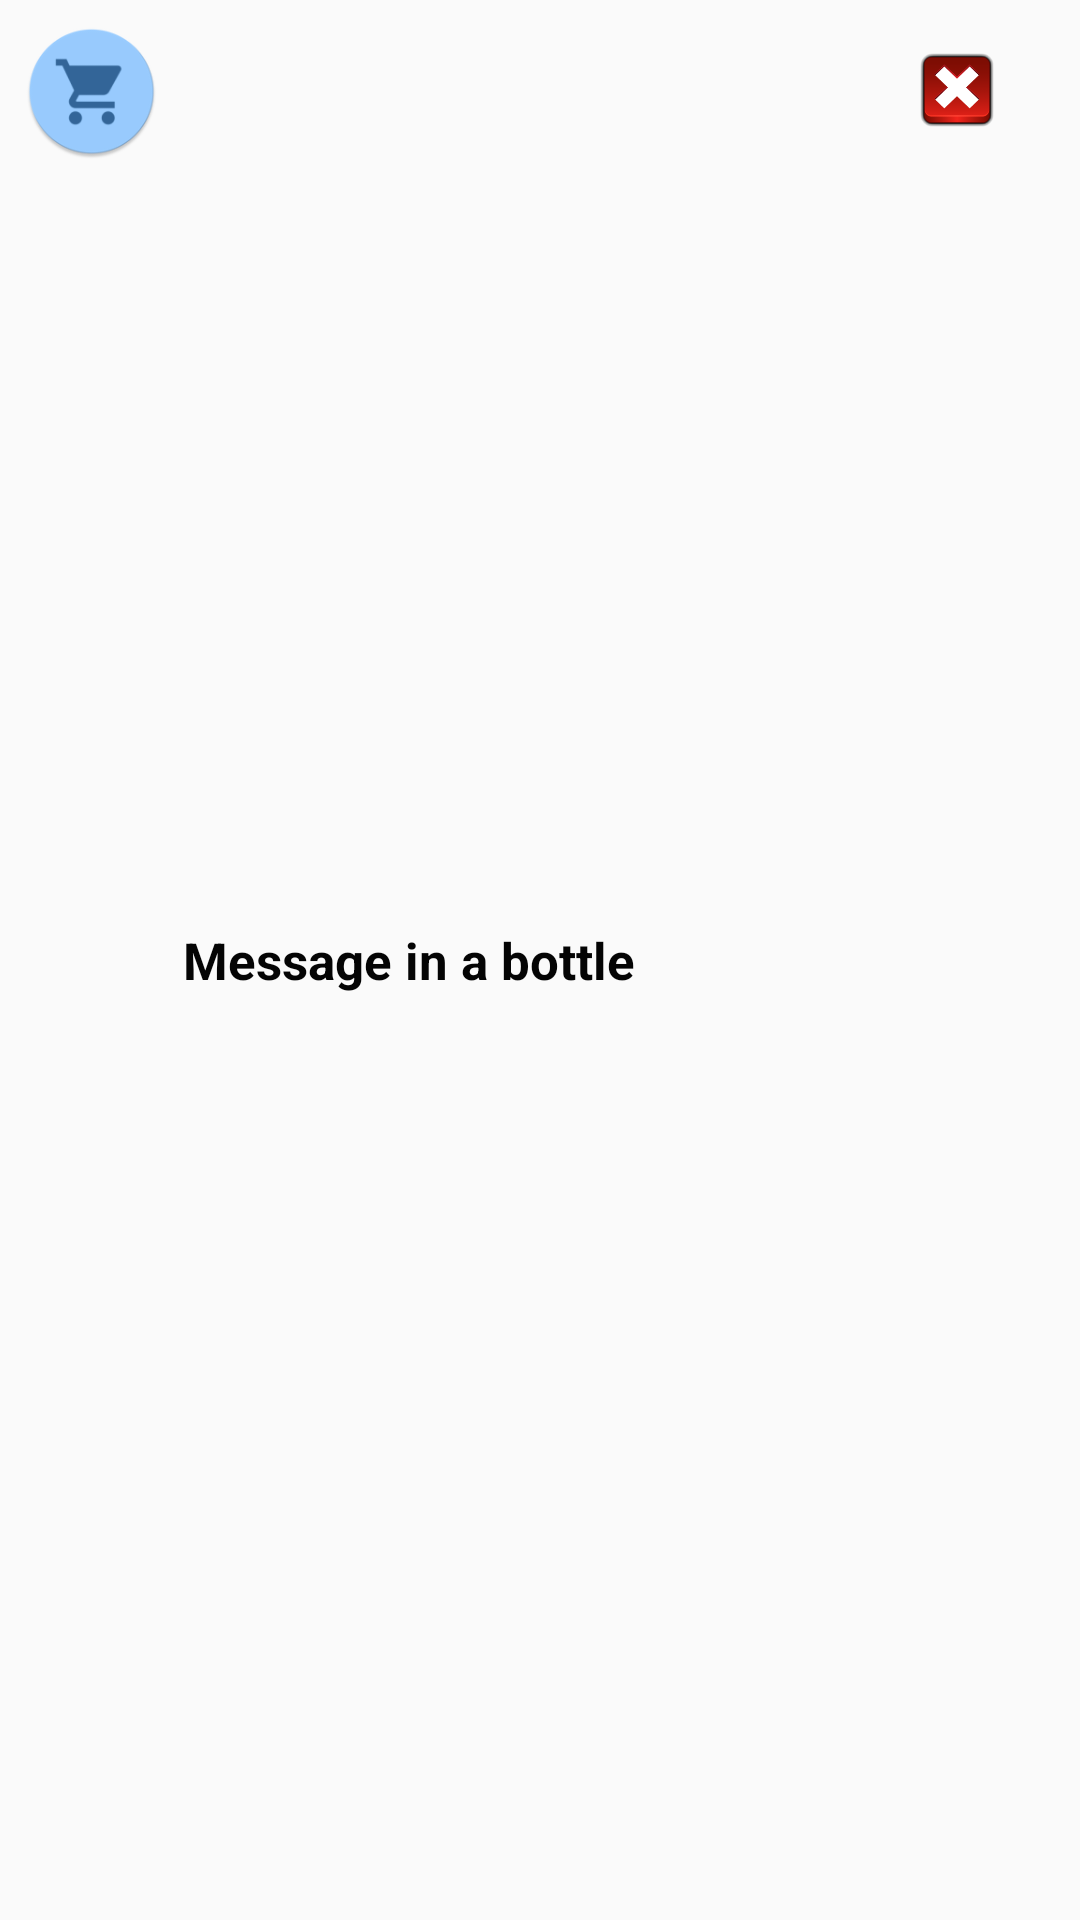

Where icons sit on this 1080x1920 app screen, as box(x1, y1, x2, y2):
delete: box(921, 54, 993, 126)
iconacarrello round: box(29, 29, 154, 157)
